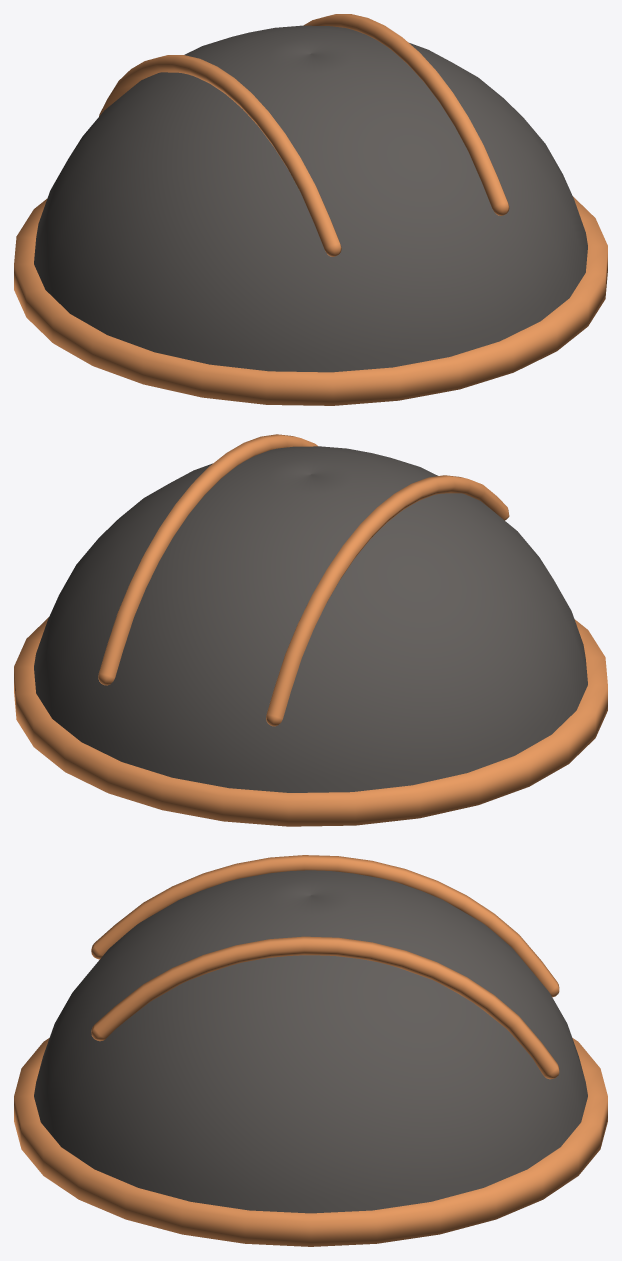
The model's file is catchers_mask.glb.
3 views of the same model, one above another, from view 1: azimuth 30°, elevation 25°; view 2: azimuth 150°, elevation 25°; view 3: azimuth 270°, elevation 25° (orthographic).
Parts seen in each view (by area): view 1: catchers_mask_Head; view 2: catchers_mask_Head; view 3: catchers_mask_Head.
Part boxes in pixels (box(x1,y1,x2,y2)): catchers_mask_Head: box(14, 14, 607, 405); catchers_mask_Head: box(14, 434, 607, 826); catchers_mask_Head: box(14, 855, 607, 1246).
Size of the model in its own units: 0.75 by 0.315 by 0.75.
